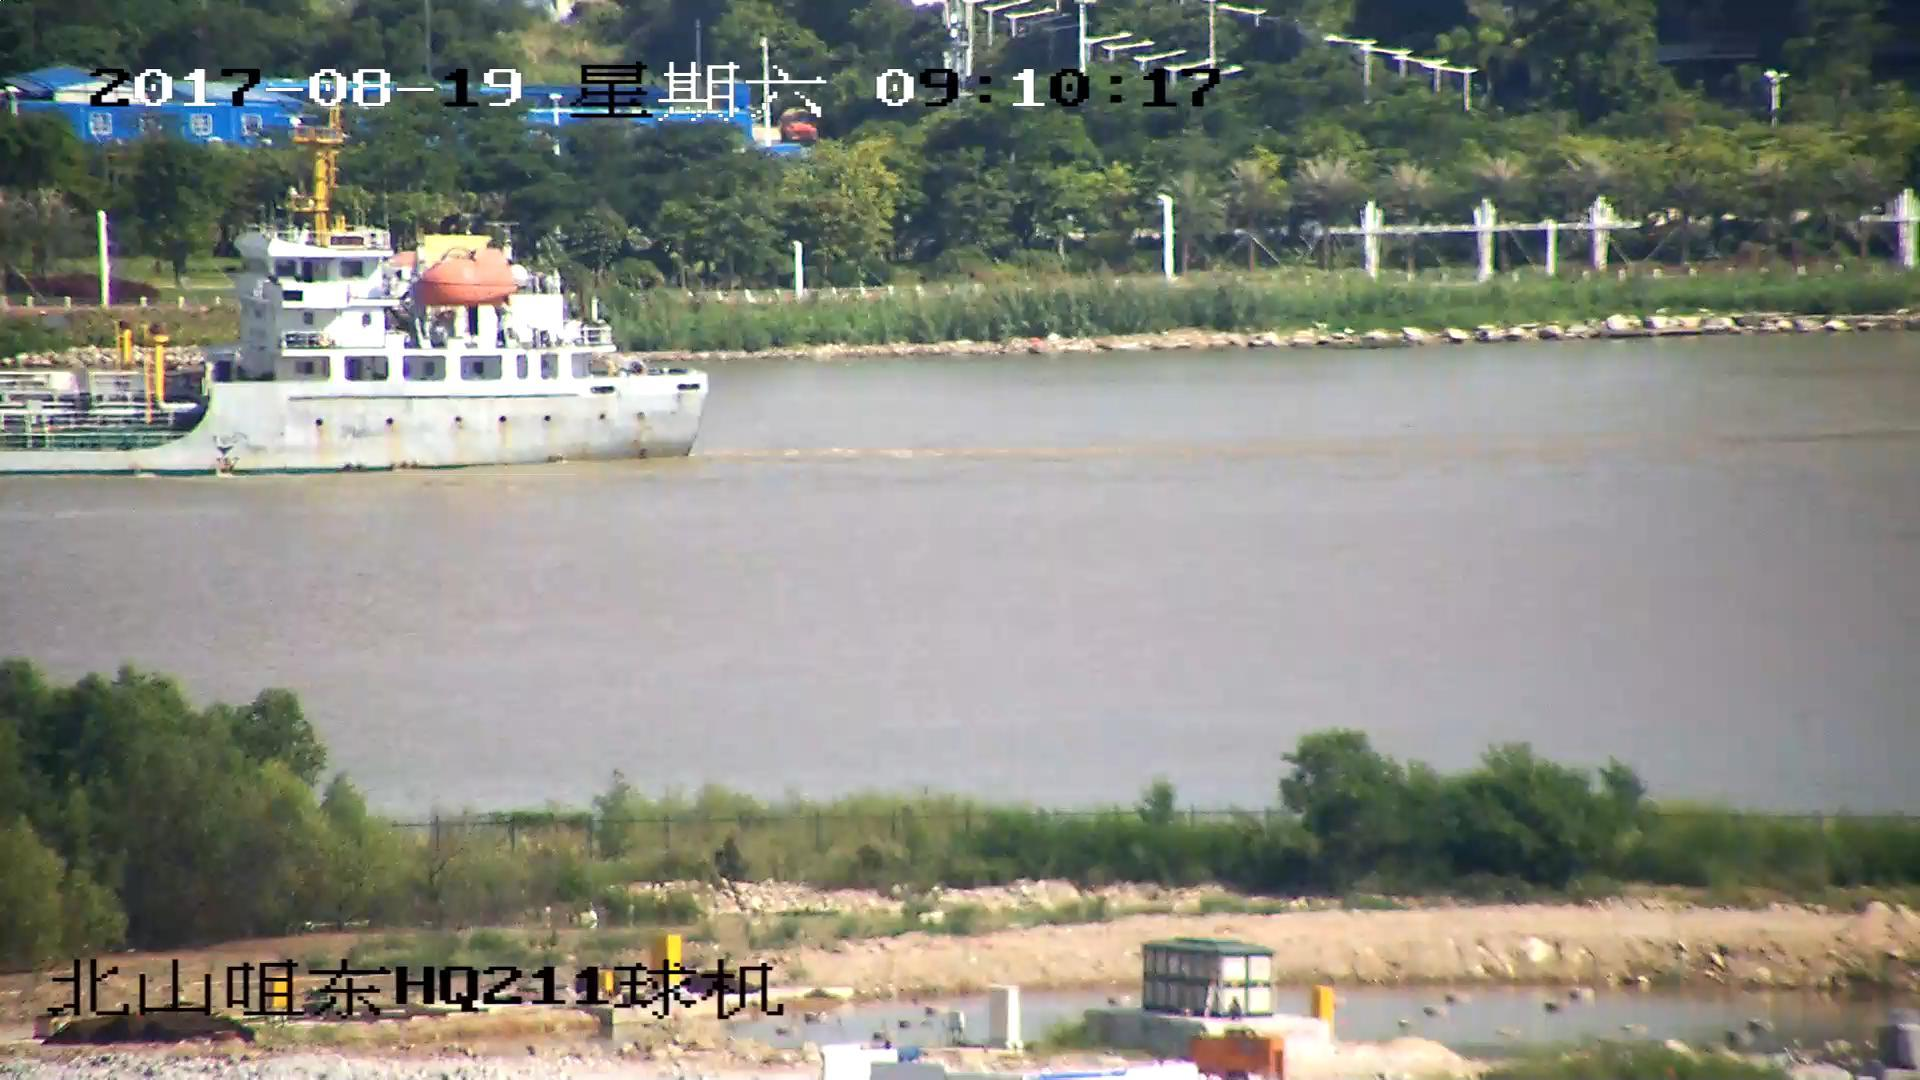Ship: (3, 138, 724, 473)
